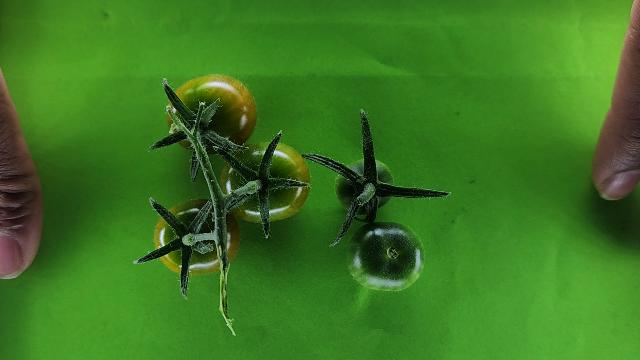Fruit Maturation: (345, 221, 426, 293), (332, 159, 393, 216)
Fully Grown: (218, 140, 312, 223), (168, 73, 258, 152), (153, 200, 238, 275)
